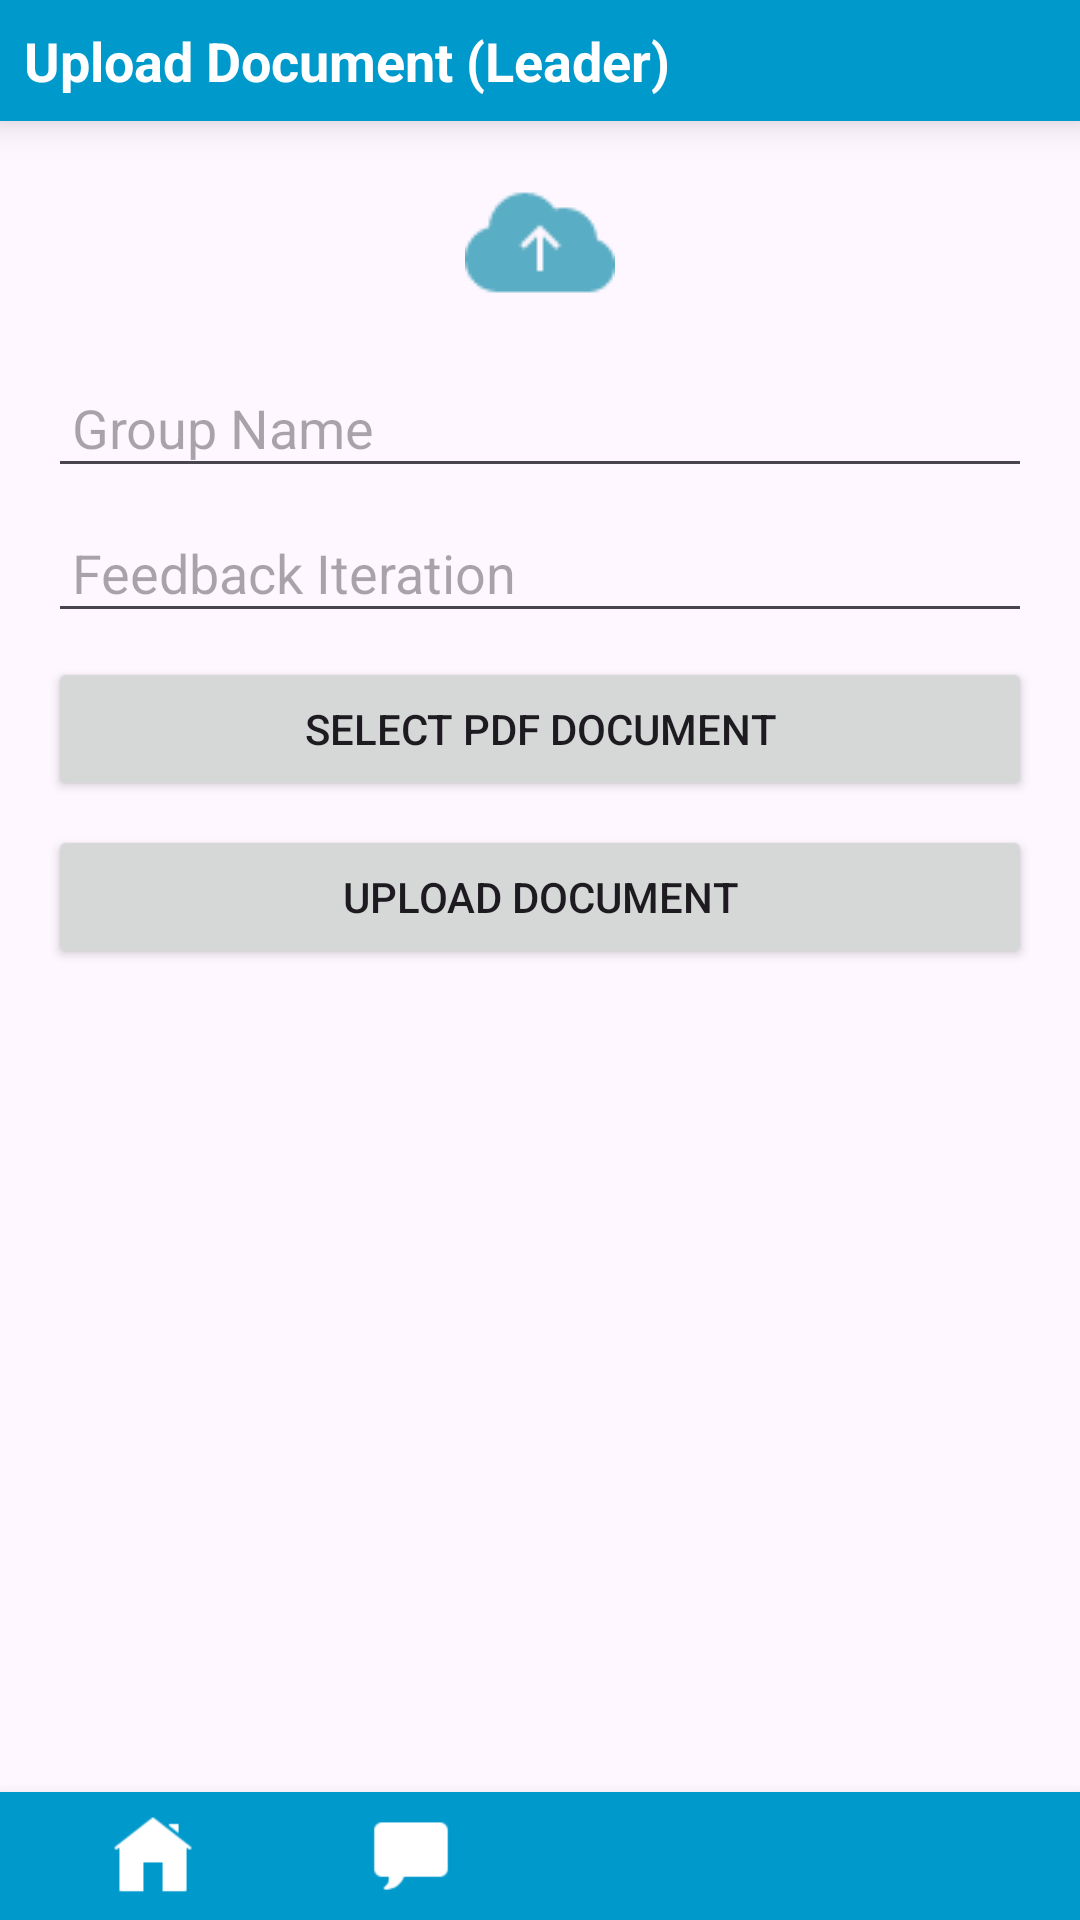

Named icons in this screenshot (1080*1920) and their centers, point (x, y):
chat: point (411, 1856)
home: point (153, 1854)
